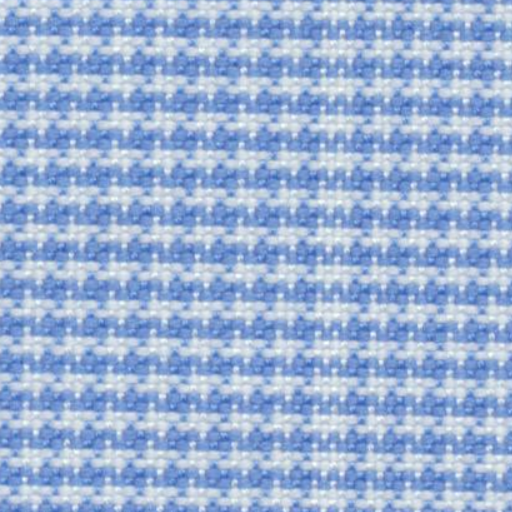TuoSha: (300, 19, 362, 492)
